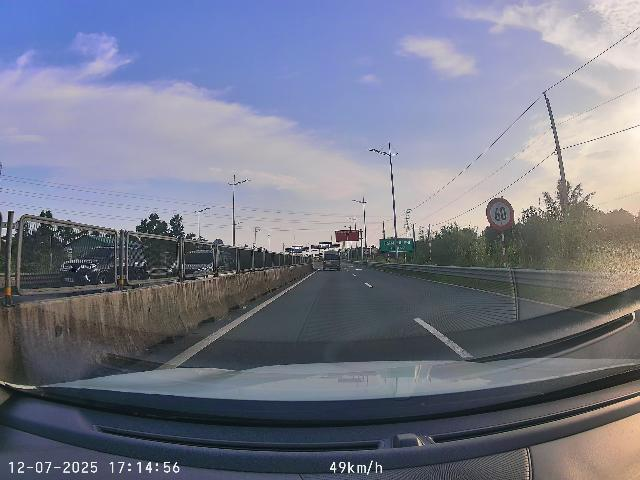127-toc-do-toi-da-60: (486, 197, 515, 230)
